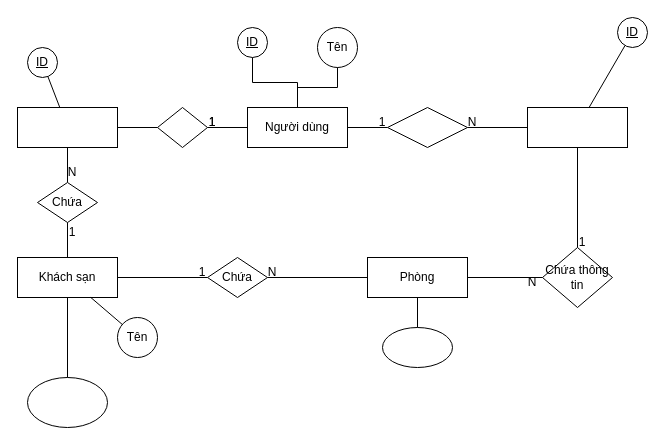
Image size: 665x445. Some labels were removed from this diagram. Here are the shapes that lost their labels. From the top down, the box of each, then its label:
(16, 106, 118, 148): Đánh giá
(156, 106, 208, 148): Tạo
(386, 106, 468, 148): Đặt
(526, 106, 628, 148): Đơn đặt phòng
(382, 326, 452, 368): Số phòng
(26, 376, 108, 428): ID Khách sạn
